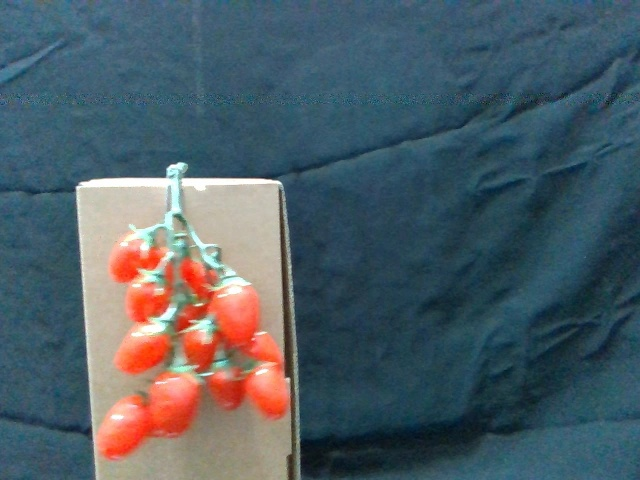tomato: (148, 369, 205, 438), (213, 275, 260, 344), (99, 394, 148, 458), (116, 320, 173, 373), (111, 228, 160, 287), (245, 360, 292, 418), (126, 269, 169, 323), (182, 318, 216, 374), (210, 356, 244, 408)
